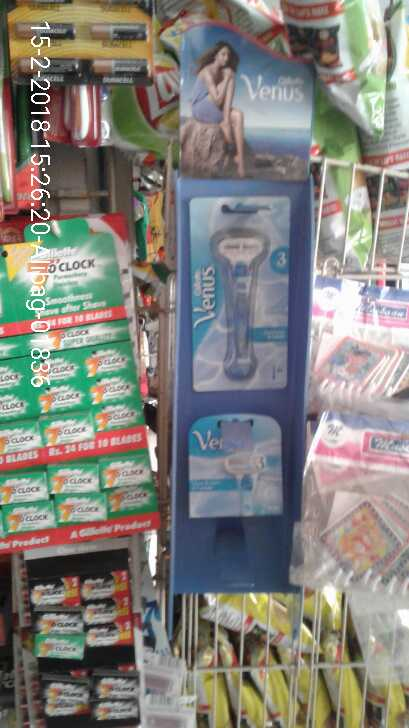beauty: (189, 196, 292, 390), (1, 430, 150, 536), (3, 353, 150, 430), (186, 418, 285, 515), (24, 576, 142, 655)
